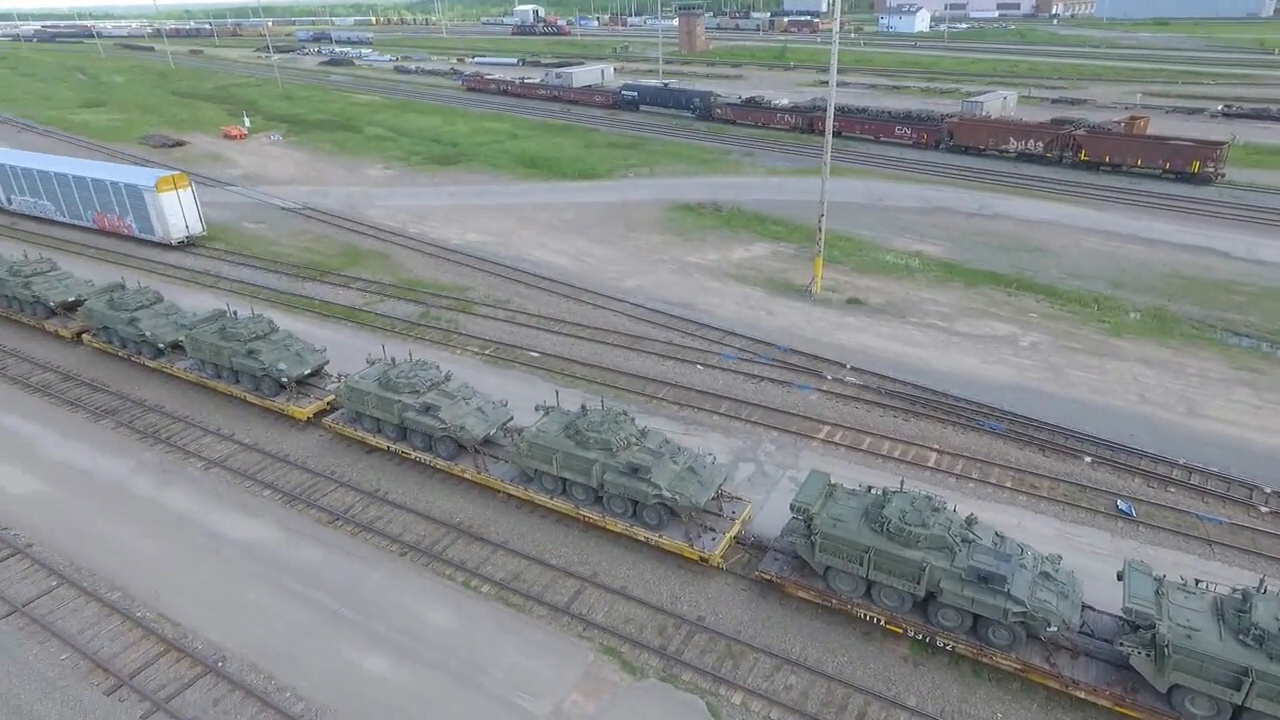tank: (789, 463, 1084, 652), (514, 401, 732, 532), (1109, 558, 1278, 720), (339, 354, 507, 463), (177, 308, 328, 387), (76, 282, 197, 359), (4, 255, 102, 322)
